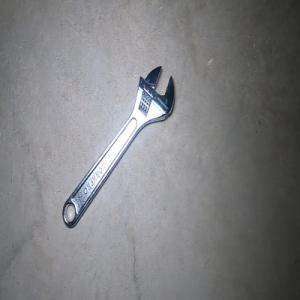Wrench: (62, 65, 174, 228)
